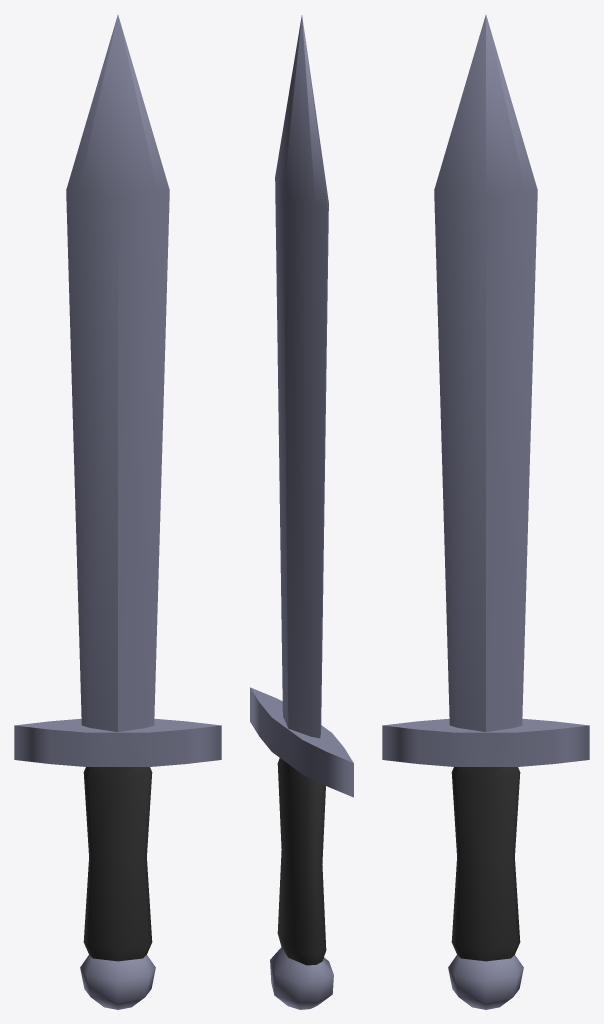
File: mithril_shortsword.glb
3 renders of one model, left to right at view 1: azimuth 90°, elevation 25°; view 2: azimuth 210°, elevation 25°; view 3: azimuth 270°, elevation 25°, orthographic.
Parts seen in each view (by area): view 1: Steel Short Sword; view 2: Steel Short Sword; view 3: Steel Short Sword.
Part boxes in pixels (<box>): Steel Short Sword: <box>14,15,221,1009</box>; Steel Short Sword: <box>250,15,353,1009</box>; Steel Short Sword: <box>382,15,589,1009</box>.
Size of the model in its own units: 0.028 by 0.4782 by 0.0909.
